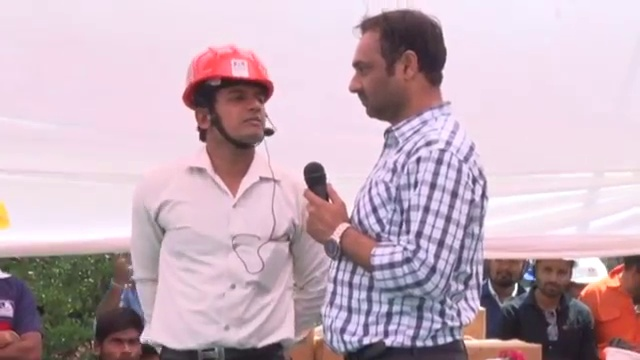helmet: (183, 42, 280, 110), (568, 258, 609, 287)
helmet_off: (349, 9, 453, 121), (94, 314, 146, 360), (536, 257, 582, 304), (489, 254, 524, 291), (610, 257, 638, 291)
helmet_on: (183, 42, 279, 159)
person: (305, 6, 494, 359), (129, 37, 326, 360), (494, 259, 596, 359), (585, 259, 639, 350), (475, 254, 532, 336), (0, 267, 43, 360)
